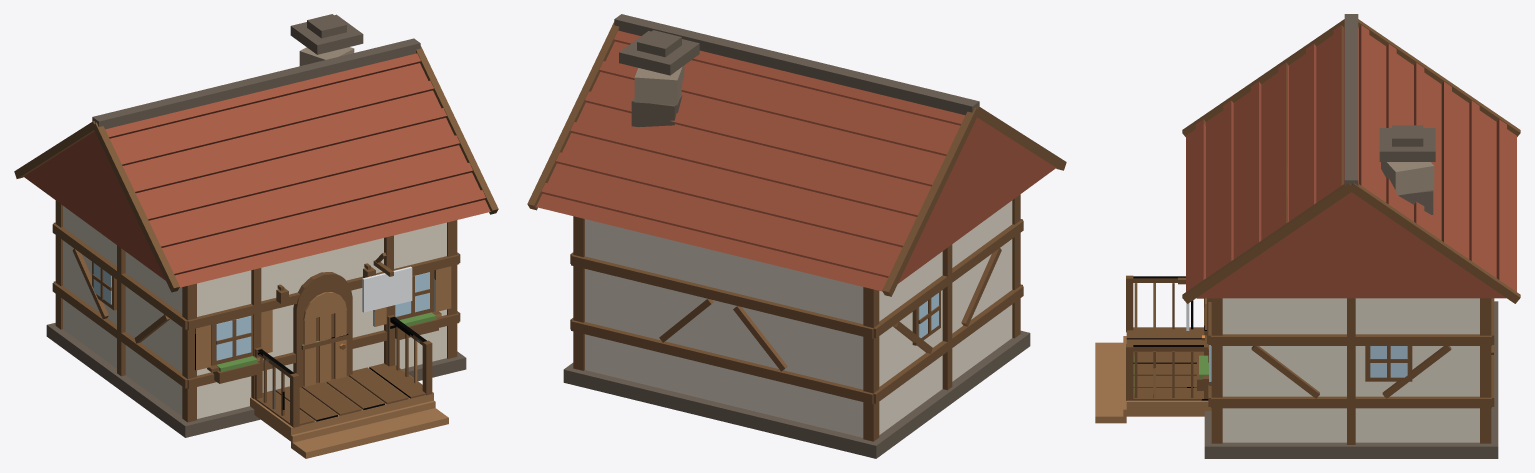
Rendered from AST06.glb.
3 renders of one model, left to right at view 1: azimuth 30°, elevation 25°; view 2: azimuth 150°, elevation 25°; view 3: azimuth 270°, elevation 25°, orthographic. The views are drawn at different scales.
Visible parts, largest first — view 1: AST06_Cottage, AST06_Signboard; view 2: AST06_Cottage; view 3: AST06_Cottage.
Part boxes in pixels (x1,y1,x2,y2): AST06_Cottage: [14, 14, 498, 458]; AST06_Signboard: [362, 266, 412, 312]; AST06_Cottage: [527, 14, 1066, 458]; AST06_Cottage: [1095, 14, 1520, 458].
Size of the model in its own units: 6.36 by 5.38 by 6.81.
2 materials, 1 textured.
